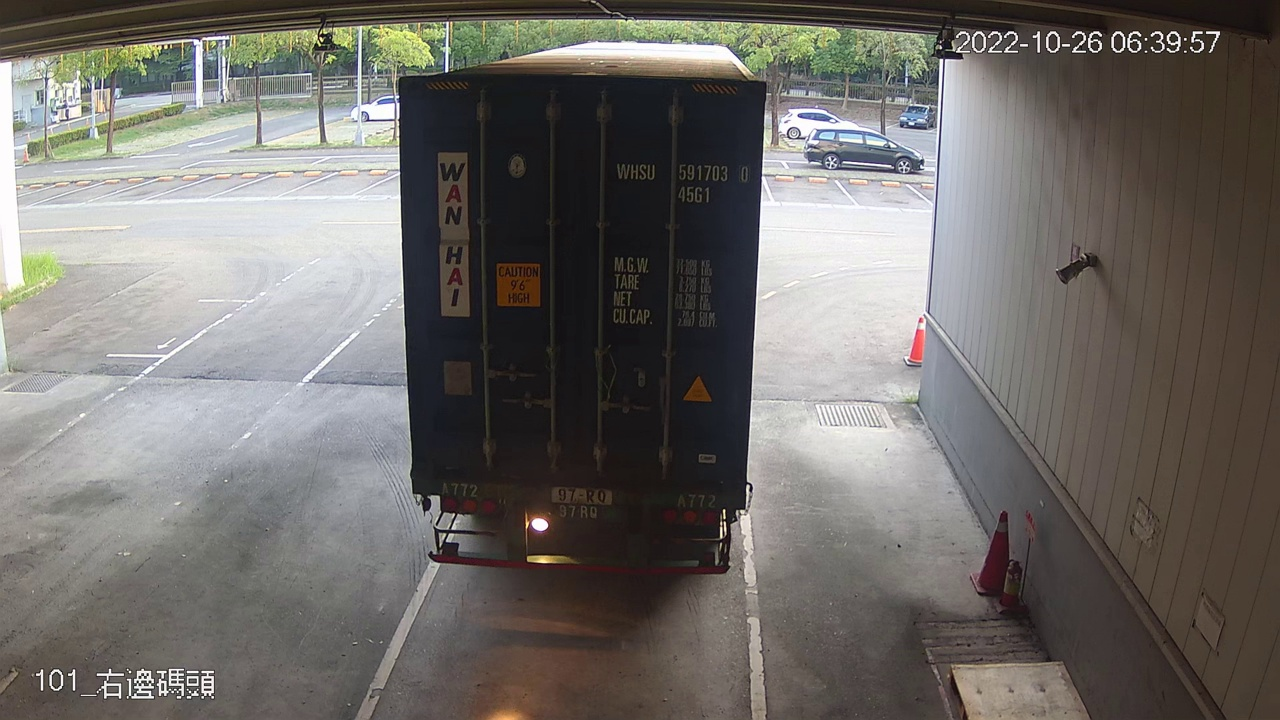container: (609, 152, 753, 212)
